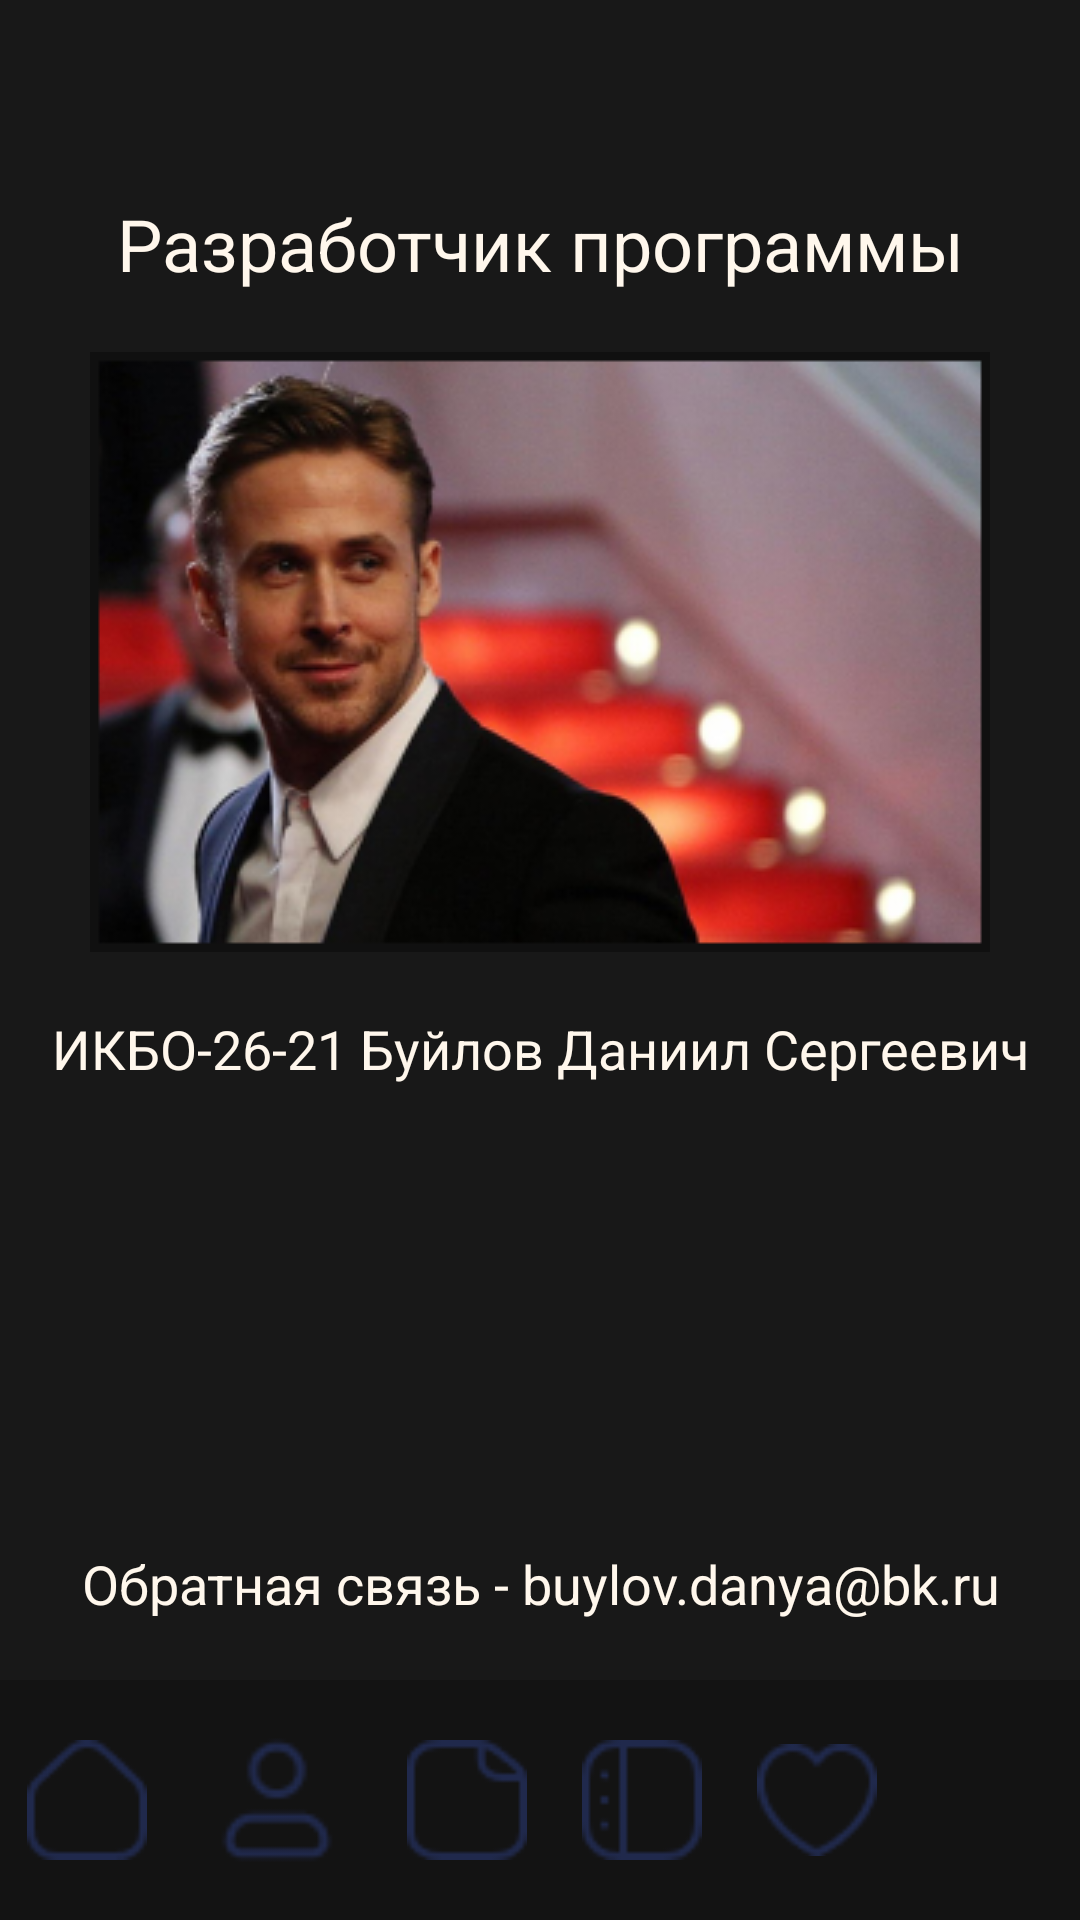

Screen size 1080px x 1920px. Icon name, then its center in pixels as [x,y]:
favourites: [817,1800]
user: [277,1800]
